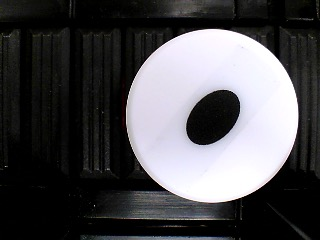BOHOEL: (125, 28, 299, 203)
